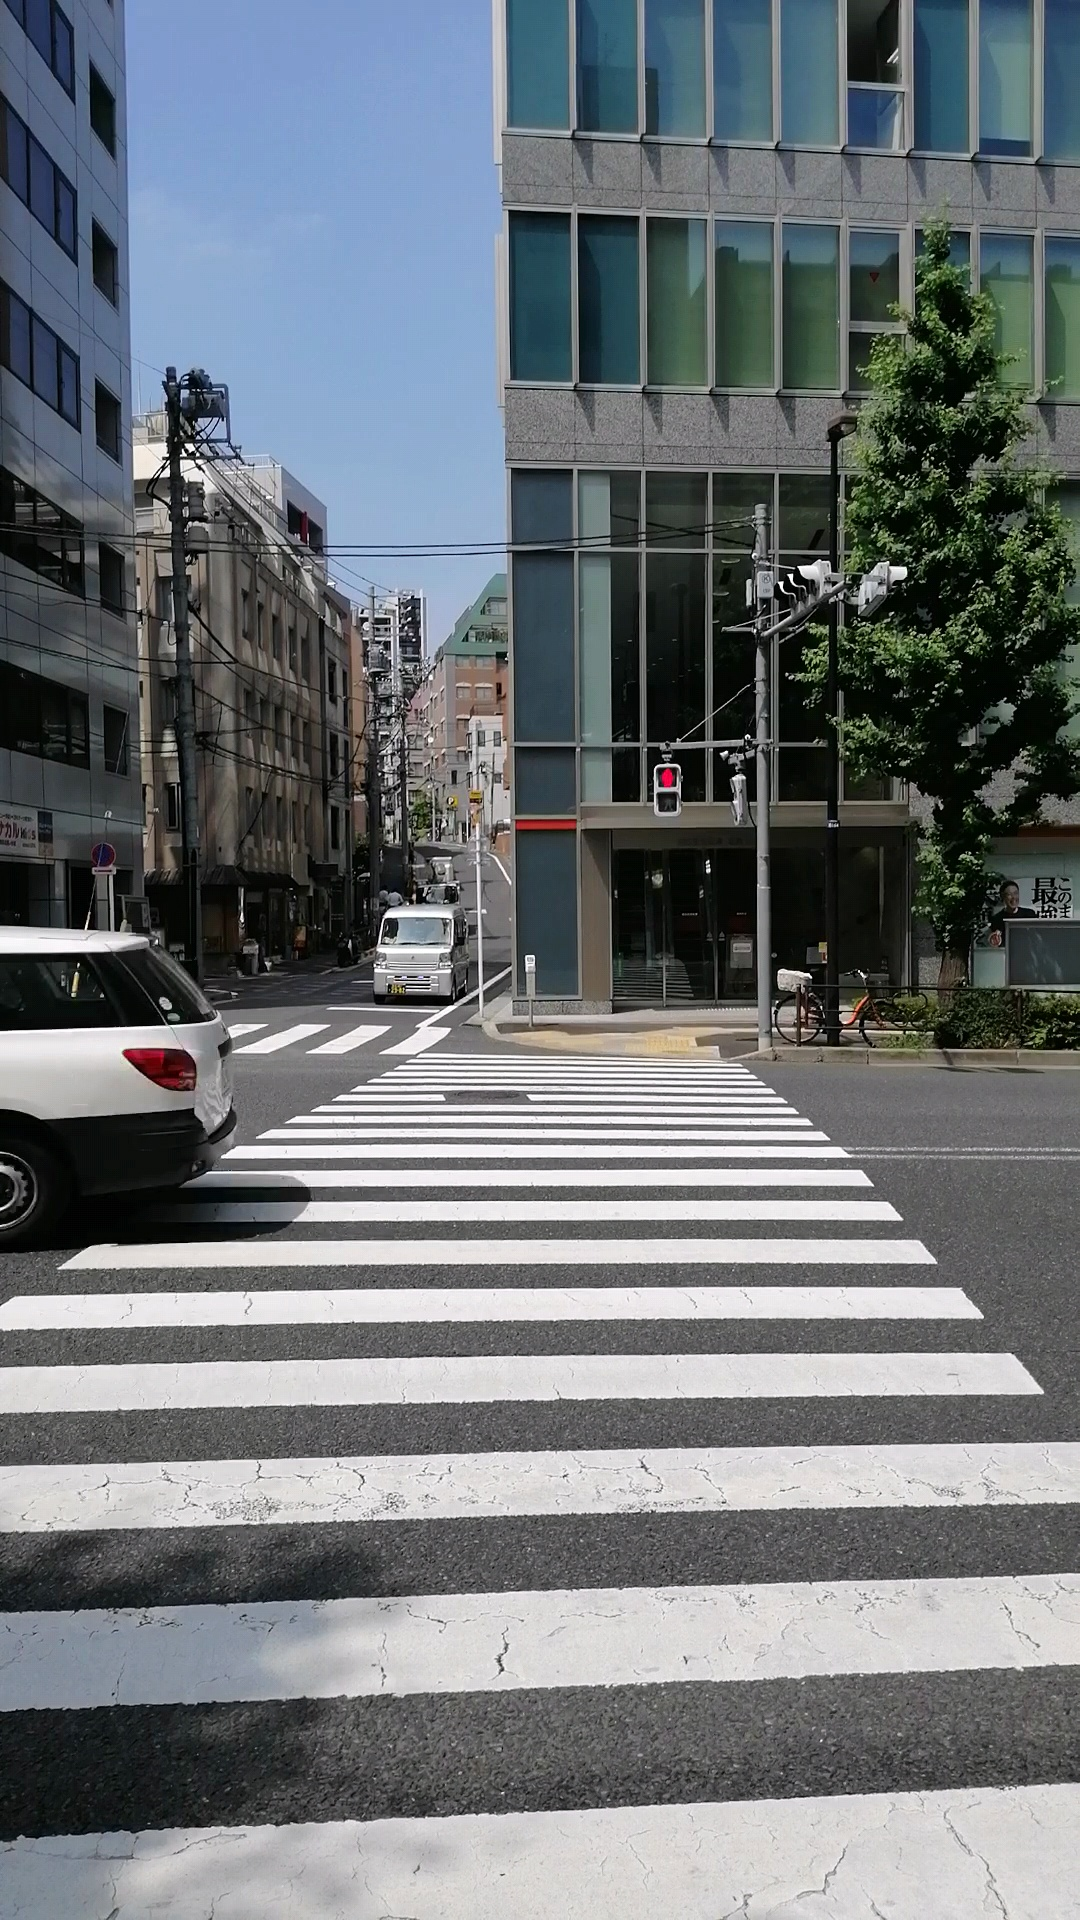red: (651, 764, 683, 818)
